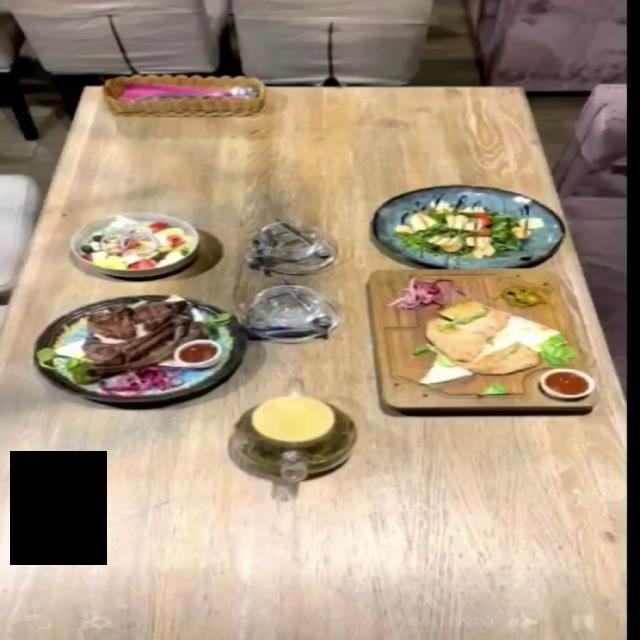meat: (367, 270, 594, 410), (33, 293, 249, 402)
salad: (375, 184, 567, 267), (68, 211, 202, 276)
tea: (228, 396, 357, 480)
